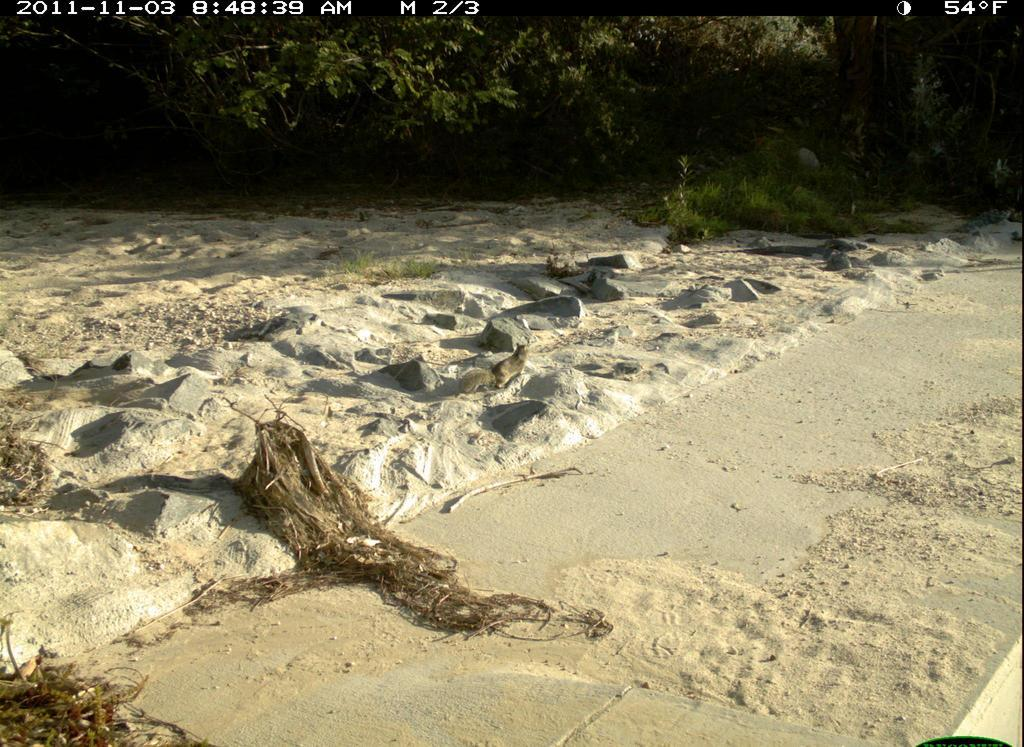squirrel: (450, 340, 542, 408)
